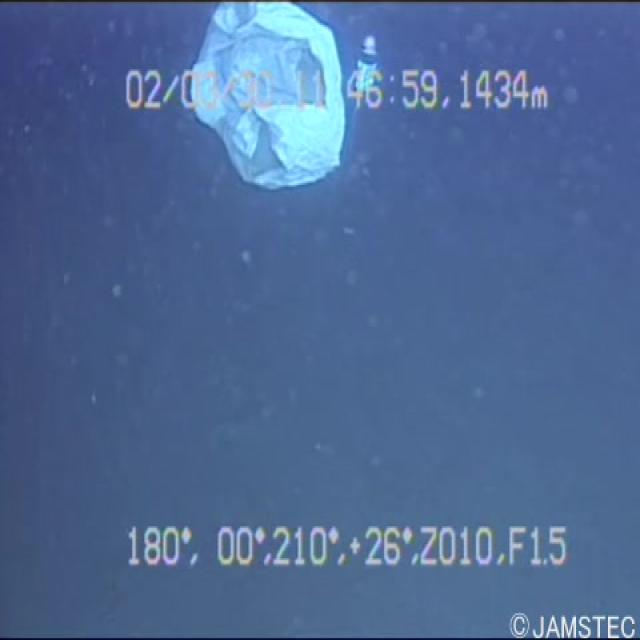plastic: (185, 0, 354, 192)
